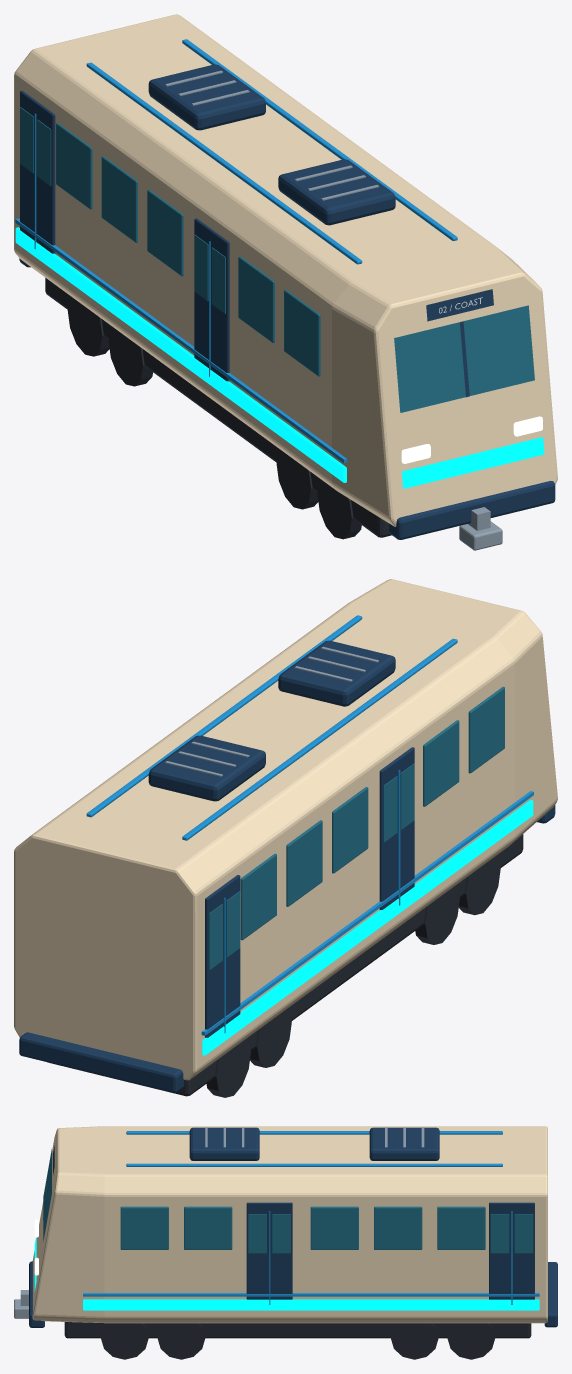
Rendered from train_b.glb.
The picture shows the model from 3 angles, top to bottom: view 1: azimuth 30°, elevation 25°; view 2: azimuth 150°, elevation 25°; view 3: azimuth 270°, elevation 25°; orthographic projection. The views are drawn at different scales.
Parts seen in each view (by area): view 1: Train_B_StaticMesh; view 2: Train_B_StaticMesh; view 3: Train_B_StaticMesh.
Boxes of the visible parts, left/top/right/bottom form: Train_B_StaticMesh: left=14, top=14, right=557, bottom=550; Train_B_StaticMesh: left=14, top=579, right=557, bottom=1097; Train_B_StaticMesh: left=14, top=1126, right=557, bottom=1359.
Size of the model in its own units: 4.58 by 6.52 by 16.32.
